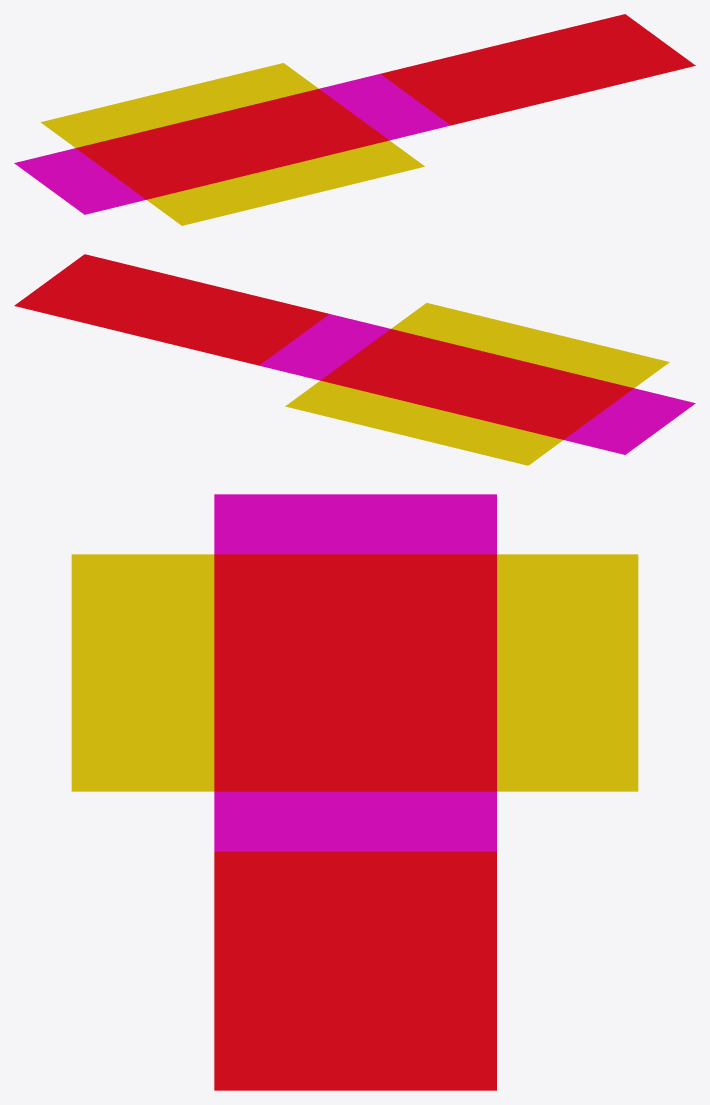
The model's file is plane-cuboid.fbx.
The picture shows the model from 3 angles, top to bottom: view 1: azimuth 30°, elevation 25°; view 2: azimuth 150°, elevation 25°; view 3: azimuth 270°, elevation 25°; orthographic projection. The views are drawn at different scales.
Visible parts, largest first — view 1: Plane; view 2: Plane; view 3: Plane.
Part boxes in pixels (box(x1,y1,x2,y2)): Plane: box(14, 14, 695, 225); Plane: box(14, 254, 695, 465); Plane: box(71, 494, 638, 1090).
Bounding box in the file's own units: 998 × 0 × 401.
